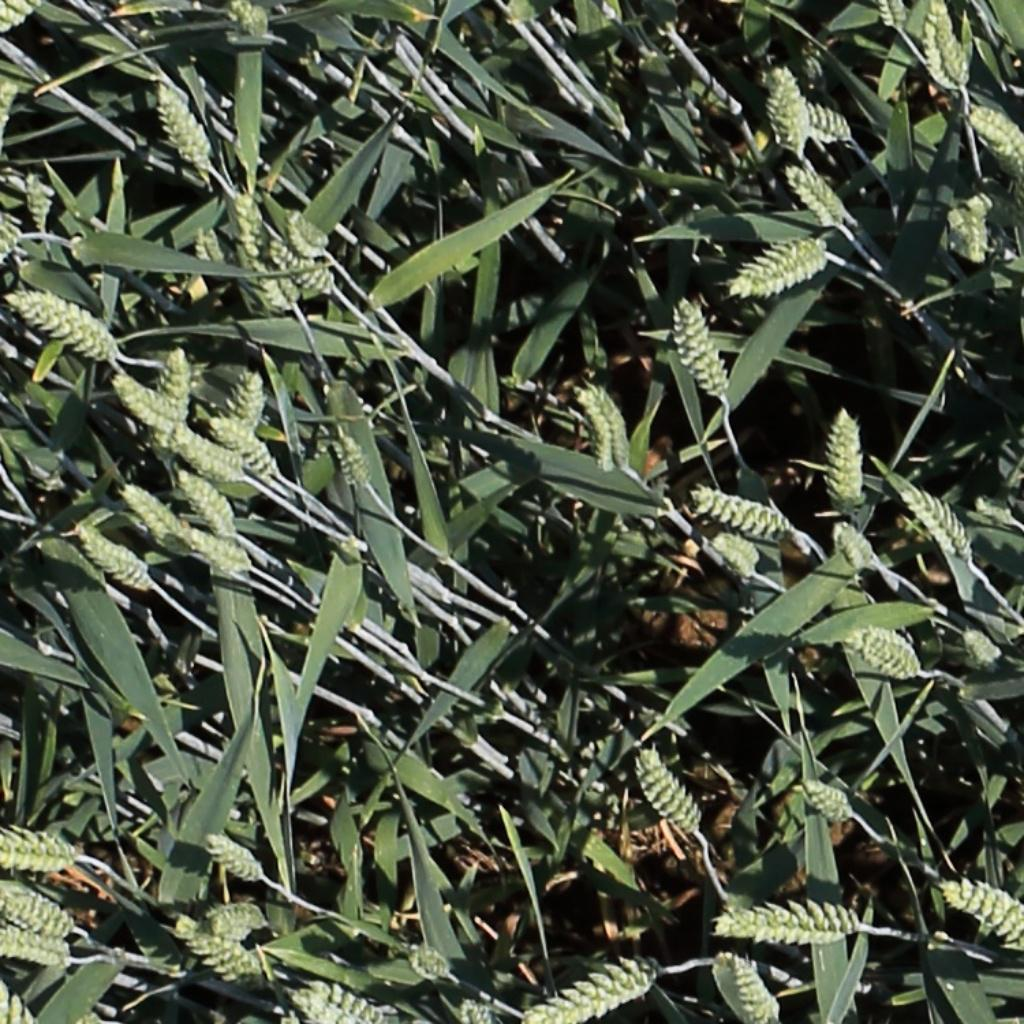0-0: (514, 951, 672, 1024), (233, 180, 302, 317), (705, 891, 870, 943), (8, 292, 120, 368), (823, 393, 884, 524), (674, 292, 731, 401), (636, 746, 705, 836), (943, 880, 1024, 955), (151, 76, 214, 172), (902, 483, 977, 563), (177, 920, 263, 983), (172, 464, 240, 543), (693, 487, 794, 539), (77, 524, 151, 592), (719, 946, 783, 1024), (577, 380, 630, 473), (0, 878, 79, 937), (210, 415, 281, 480), (785, 159, 850, 228), (772, 57, 814, 159), (928, 4, 973, 94), (111, 374, 182, 431), (966, 102, 1024, 170), (684, 532, 764, 581), (162, 428, 244, 475), (267, 238, 337, 290), (120, 483, 185, 539), (0, 835, 90, 874), (853, 628, 921, 678), (296, 984, 375, 1022), (944, 197, 987, 266), (184, 527, 252, 570), (206, 835, 266, 883), (832, 517, 882, 574), (335, 427, 376, 494), (0, 936, 30, 1024), (163, 338, 189, 435), (283, 204, 331, 256), (802, 780, 854, 824), (21, 165, 53, 234), (290, 987, 349, 1024), (192, 218, 230, 275), (237, 361, 264, 439), (0, 72, 20, 177), (959, 625, 1003, 671), (0, 935, 70, 963), (0, 2, 31, 60), (229, 0, 270, 40), (408, 947, 453, 980), (0, 219, 19, 292), (880, 0, 913, 38), (457, 993, 495, 1024)
